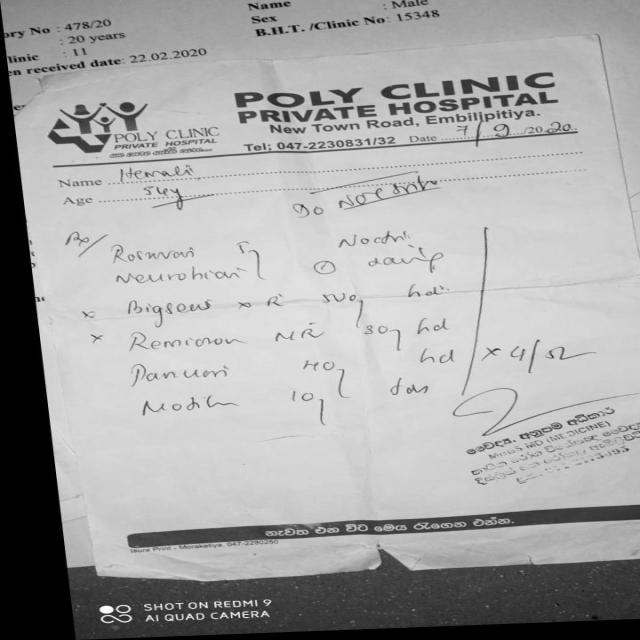Prescription: (114, 342, 452, 388), (101, 248, 447, 292), (124, 376, 425, 426), (116, 316, 450, 360), (114, 281, 440, 325)
